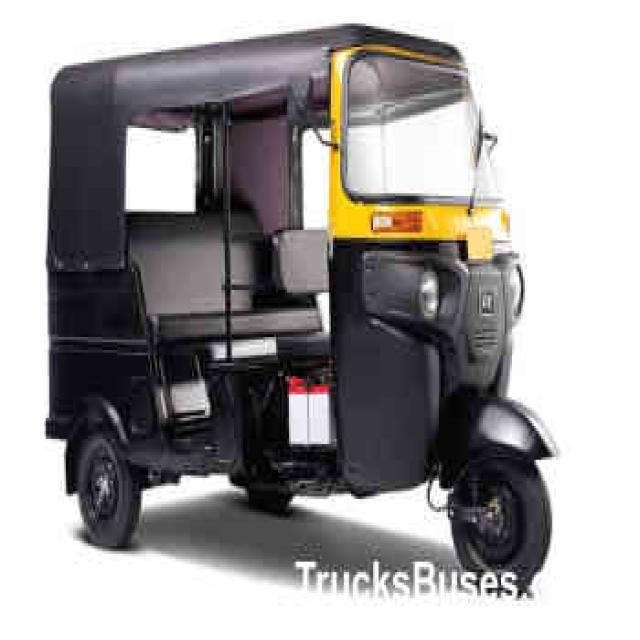autorickshaw: (46, 25, 553, 587)
